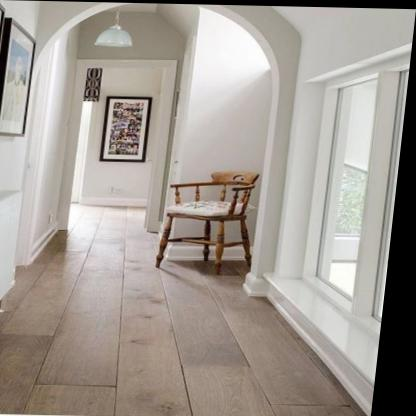Wooden floor: (0, 204, 380, 416)
